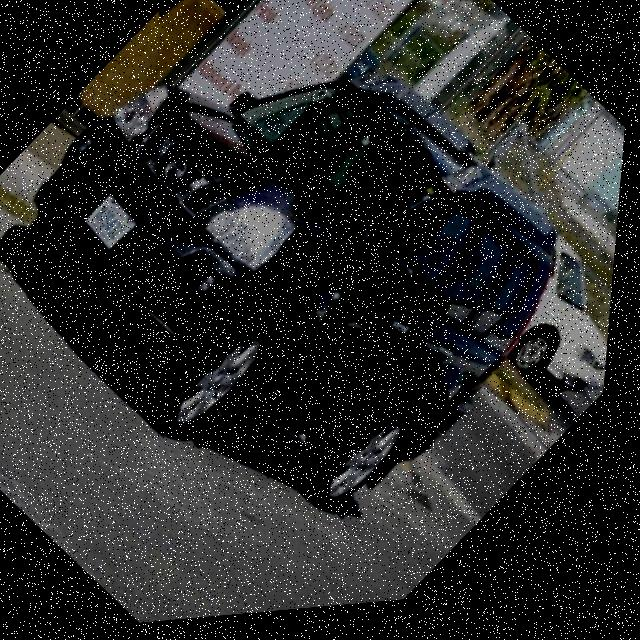license_plate: (80, 192, 148, 258)
